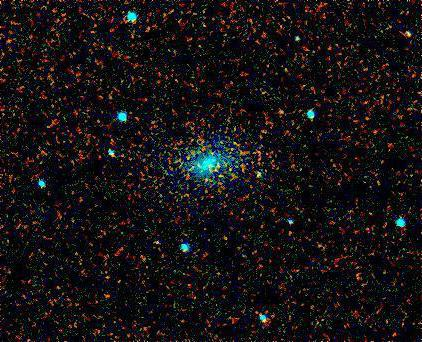star: (239, 165, 269, 195)
